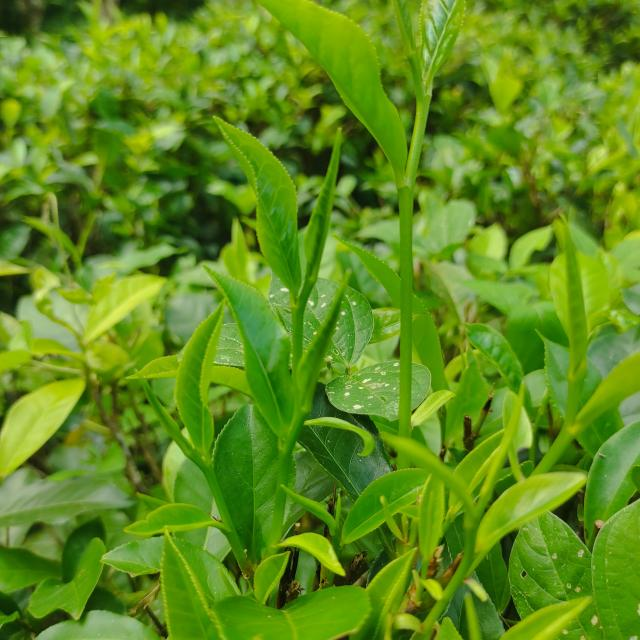unopened_leaf: (287, 265, 364, 429), (286, 126, 349, 311), (374, 427, 484, 523), (469, 374, 536, 520), (133, 366, 214, 483)
